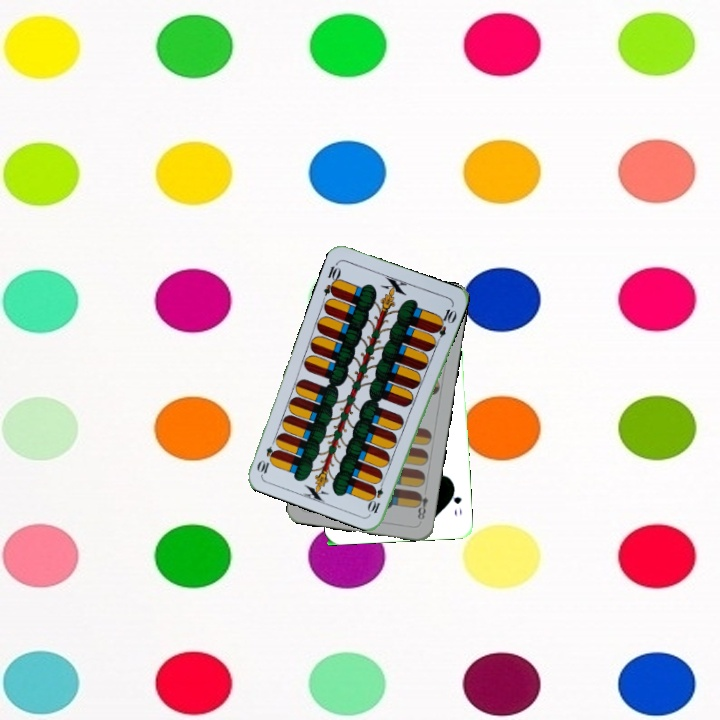E10: (319, 258, 344, 299), (365, 476, 387, 516)
E8: (412, 488, 431, 525)
GO: (447, 482, 464, 519)
